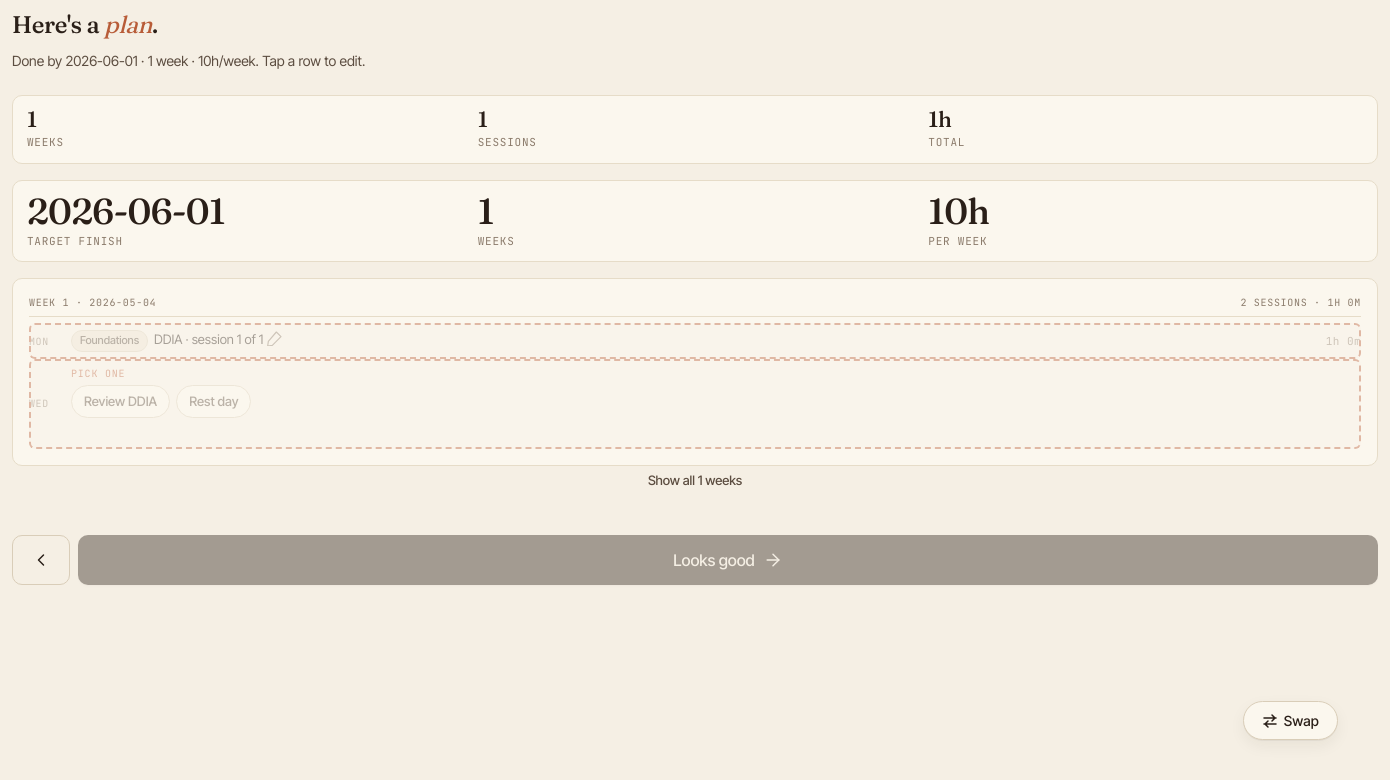
Test: Step3Preview › resolving a boundary tie sets session title and planned minutes
Click the button "Review DDIA" at (121, 401), box [71,385,170,418]
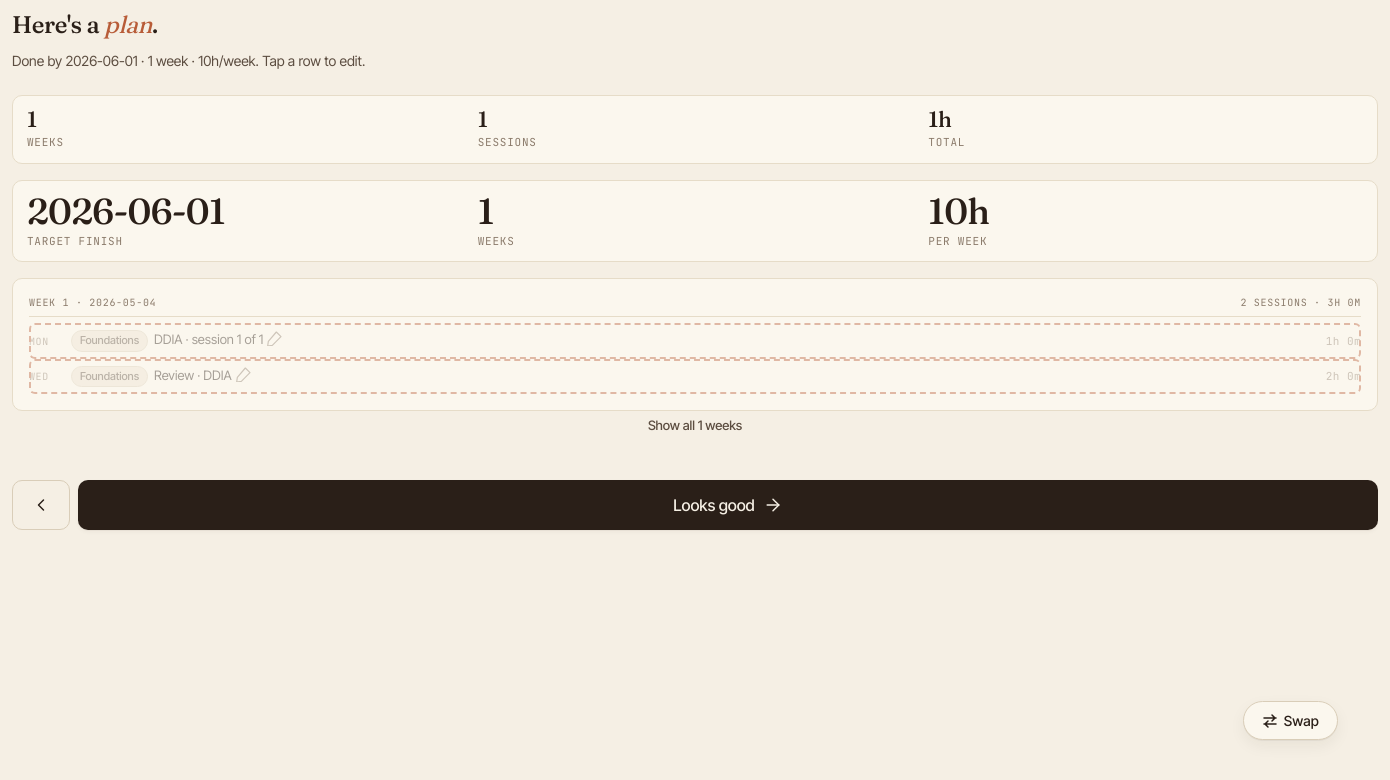
expect the text "Review · DDIA" is shown: met, box [154,367,252,383]
expect the text "2h 0m" is shown: met, box [1326,368,1361,385]
